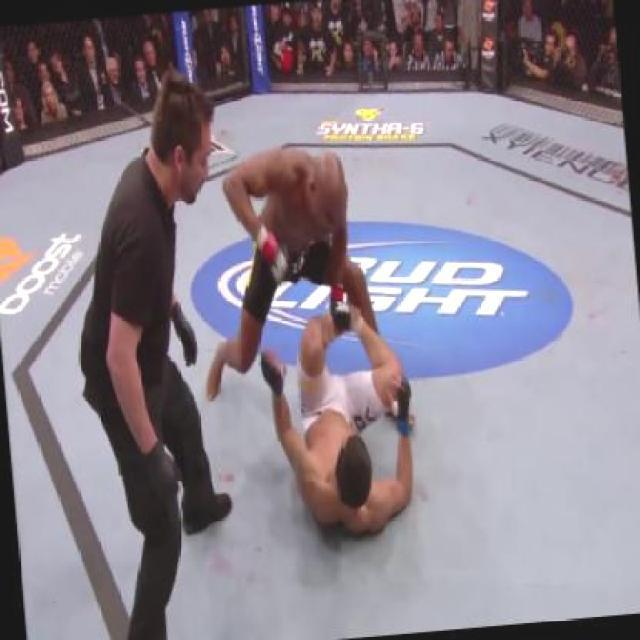fight: (218, 139, 427, 552)
non-fight: (67, 71, 250, 554)
